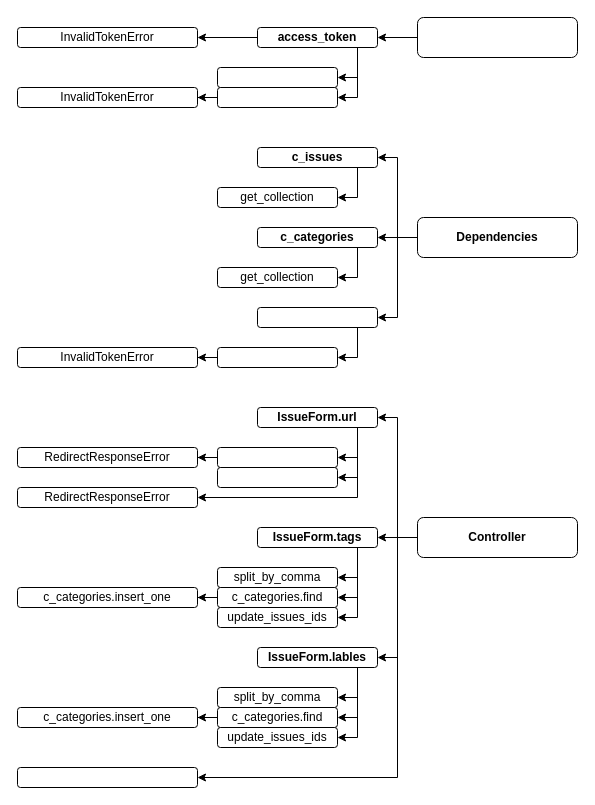
Some shapes in this 595 by 805 pixel diagram are drawn without their labels. The shapes that lost their labels are listed below. From the top down, each one's centre as x and y in pixels, then its label:
[497,37]: Cookies
[277,77]: strip_whitespaces
[277,97]: str.length > 1
[317,317]: current_user
[277,357]: get_currnent_user
[277,457]: is_supported_url
[277,477]: c_issues.find_one
[107,777]: RedirectResponseSuccess
